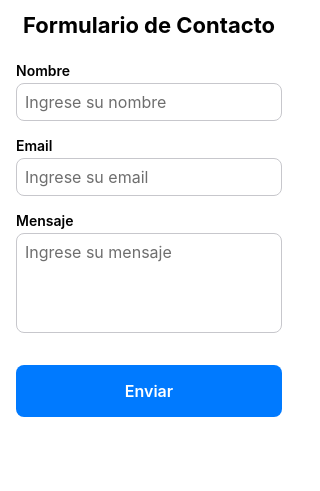
it: Form Component › Validation › shows error when name is empty
The width and height of the screenshot is (320, 491).
Click the element with test id "submit-button": coordinates (149, 391) x1=16 y1=365 x2=282 y2=417
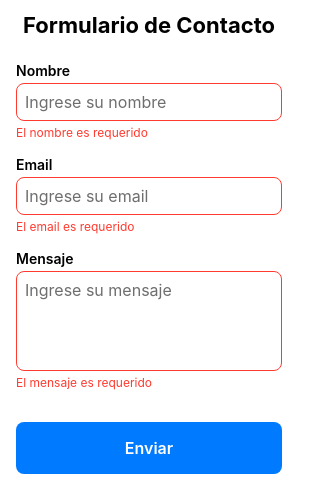
Check: the text with test id "name-error" reads "El nombre es requerido", box x1=16 y1=125 x2=148 y2=140
